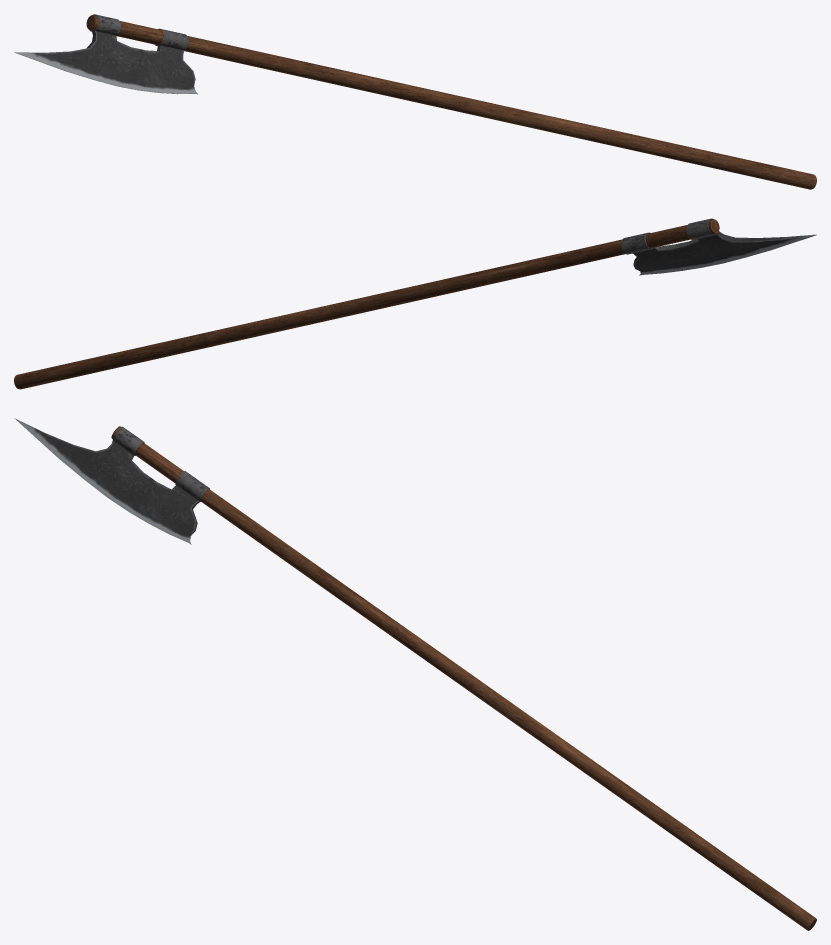
The model's file is w_halberd.glb.
3 renders of one model, top to bottom at view 1: azimuth 30°, elevation 25°; view 2: azimuth 150°, elevation 25°; view 3: azimuth 330°, elevation 25°, orthographic. The views are drawn at different scales.
Visible parts, largest first — view 1: Object_2; view 2: Object_2; view 3: Object_2.
Part boxes in pixels (x1,y1,x2,y2): Object_2: (14,14,816,189); Object_2: (14,218,816,389); Object_2: (14,418,816,930).
Bounding box in the file's own units: 361 × 148 × 17.73.
1 material, 1 textured.
